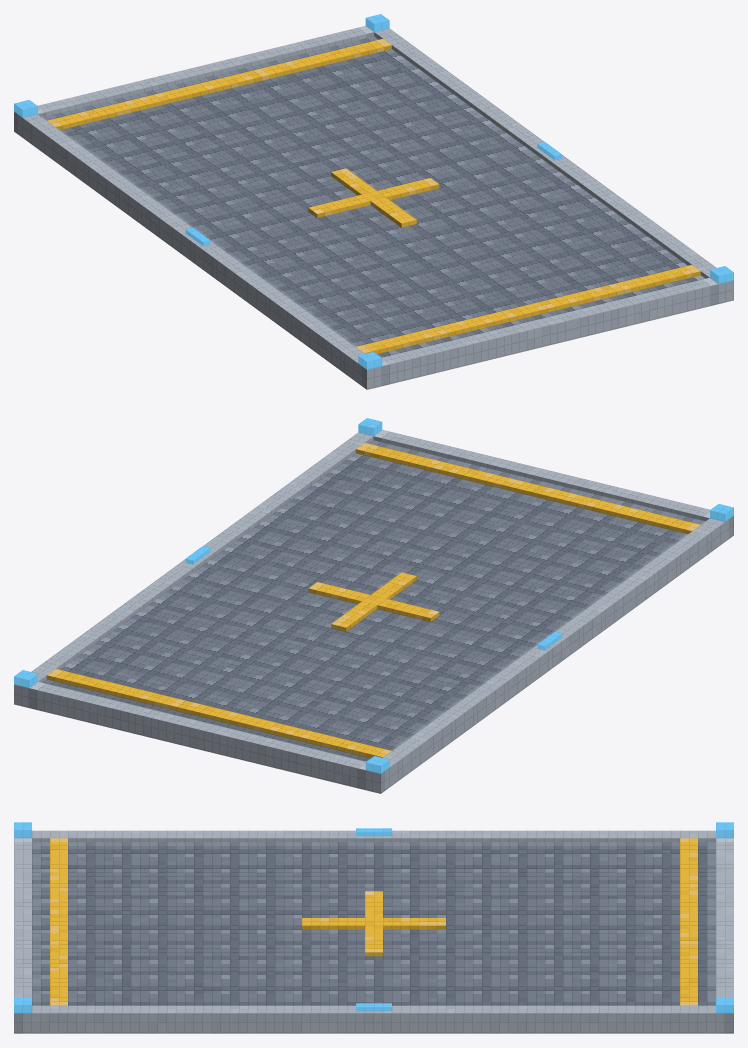
File: ShipHull.glb
3 views of the same model, one above another, from view 1: azimuth 30°, elevation 25°; view 2: azimuth 150°, elevation 25°; view 3: azimuth 270°, elevation 25° (orthographic).
Visible parts, largest first — view 1: Body, Trim, Accessory, Glow; view 2: Body, Trim, Accessory, Glow; view 3: Body, Trim, Accessory, Glow.
Part boxes in pixels (<box>): Body: <box>42,36,705,357</box>; Trim: <box>14,26,733,389</box>; Accessory: <box>47,38,700,354</box>; Glow: <box>14,14,733,369</box>; Body: <box>42,440,705,761</box>; Trim: <box>14,430,733,793</box>; Accessory: <box>47,442,700,758</box>; Glow: <box>14,418,733,773</box>; Body: <box>32,842,715,1005</box>; Trim: <box>14,830,733,1033</box>; Accessory: <box>50,838,697,1005</box>; Glow: <box>14,822,733,1013</box>.
Bounding box in the file's own units: 12 × 1.25 × 20.
Materials: 5 (5 with a texture image).
